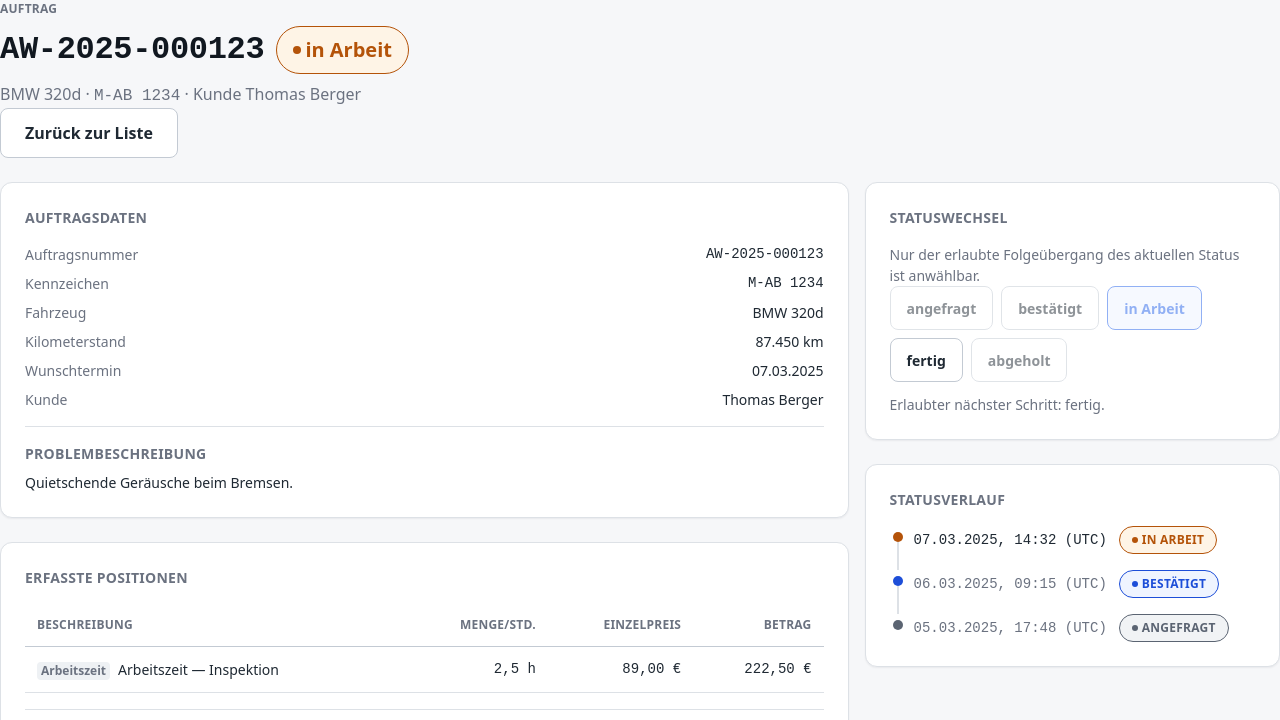
Test: ShopOrderDetail transitions › asks for confirmation before an irreversible step and applies it afterwards
expect the heading "AW-2025-000123" is shown: met, box [0, 30, 264, 70]
Click the button "fertig" at [926, 360], box [890, 338, 963, 382]
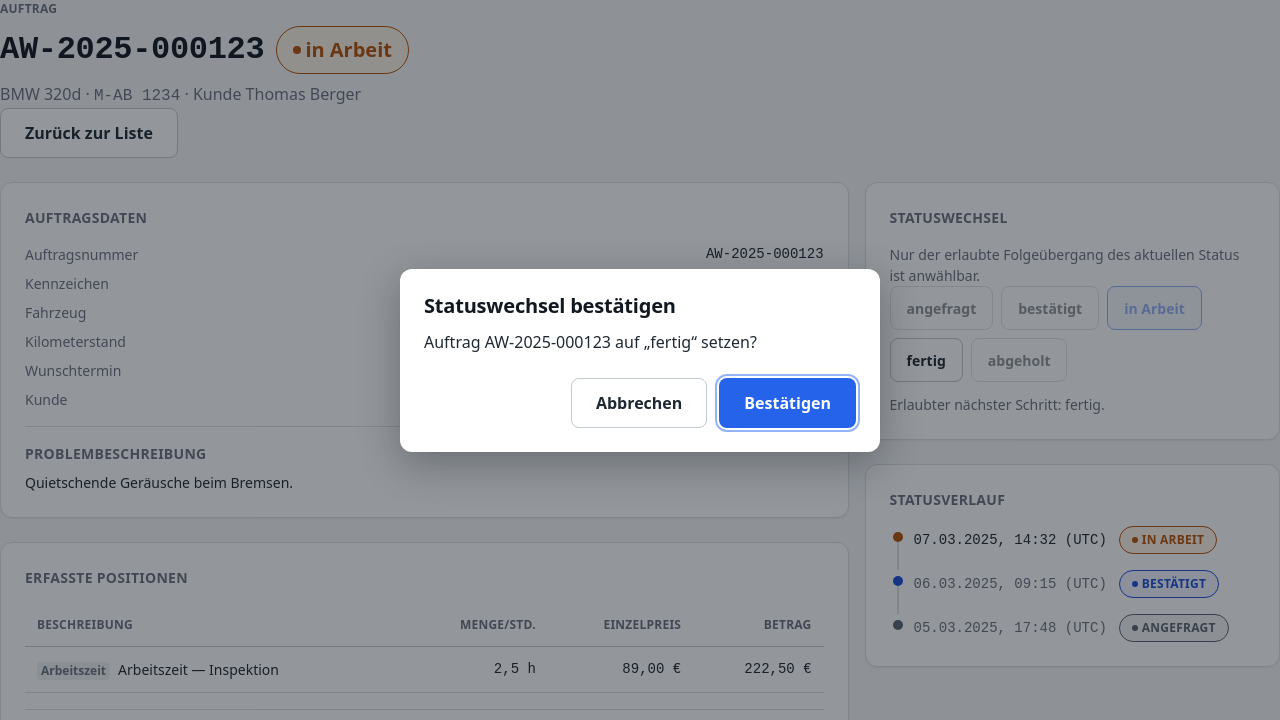
expect the text "Auftrag AW-2025-000123 auf „fertig“ setzen?" is shown: met, box [424, 330, 757, 352]
Click the button "Bestätigen" at [788, 402], box [719, 378, 856, 428]
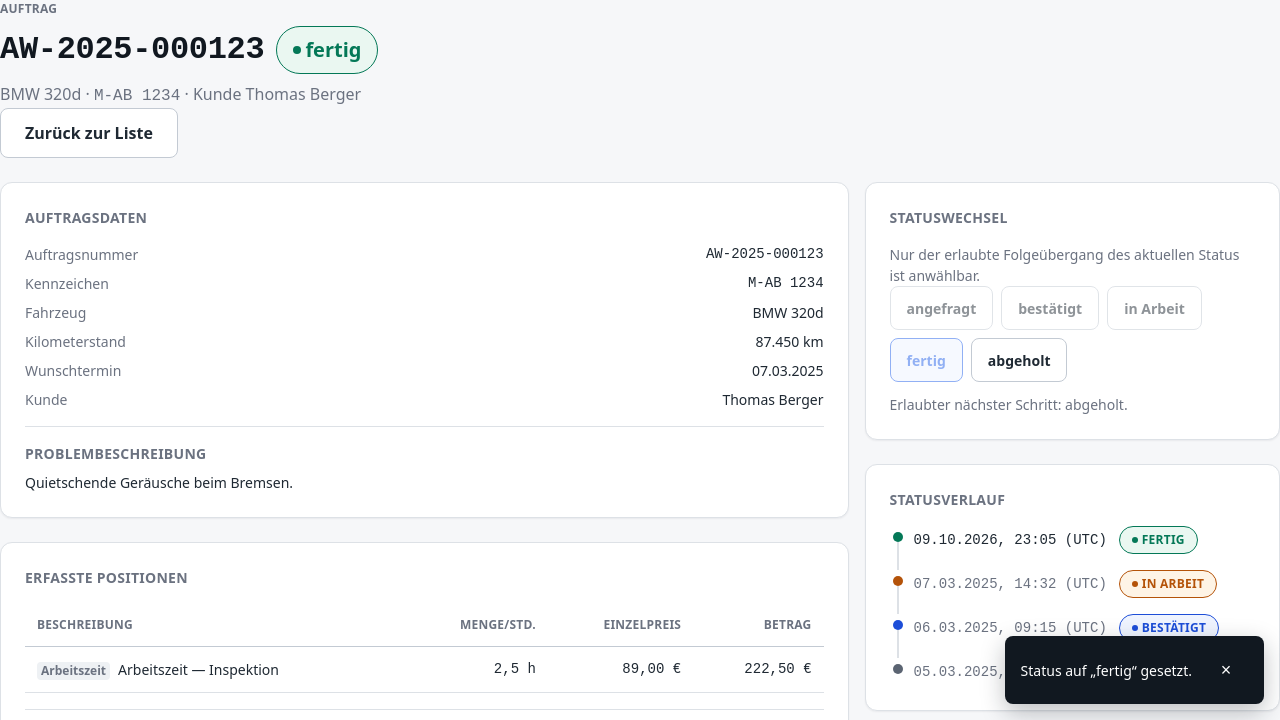
expect the 1st text "fertig" is shown: met, box [276, 26, 378, 74]
